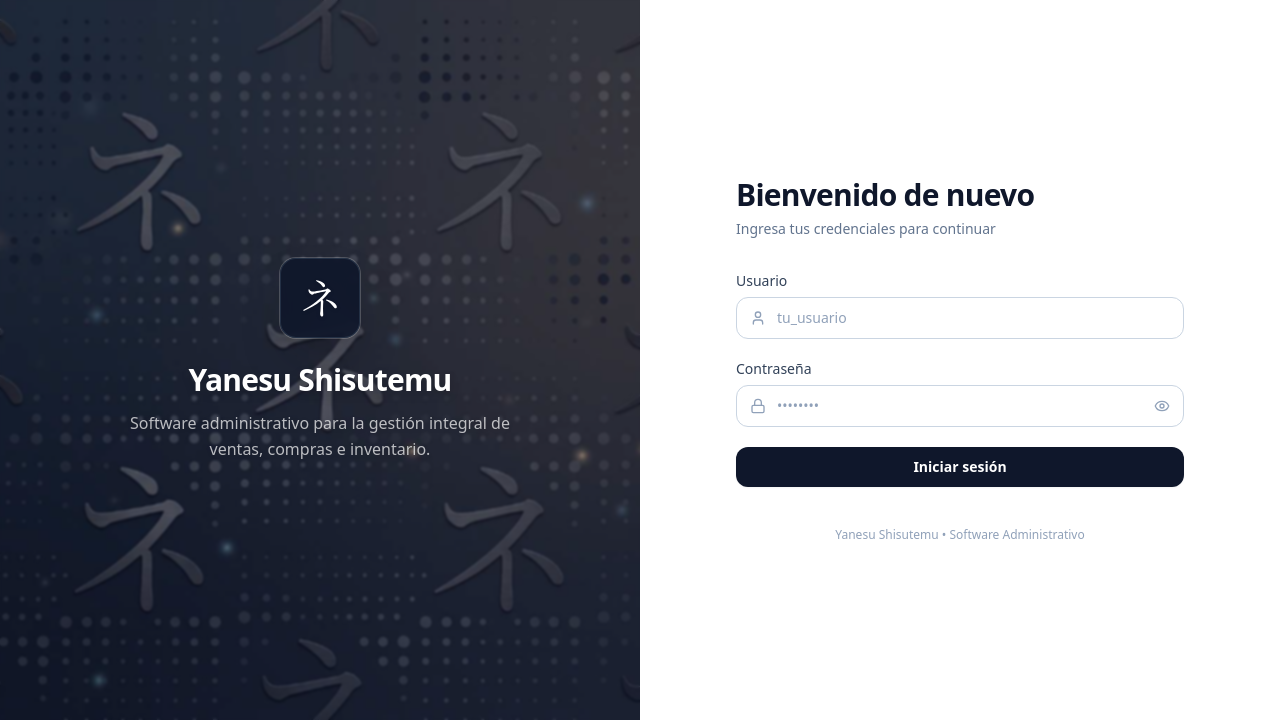
Test: LoginPage › shows error when login fails
The image size is (1280, 720).
Type "admin" into the field with placeholder "tu_usuario" at (960, 318), box [736, 297, 1184, 339]
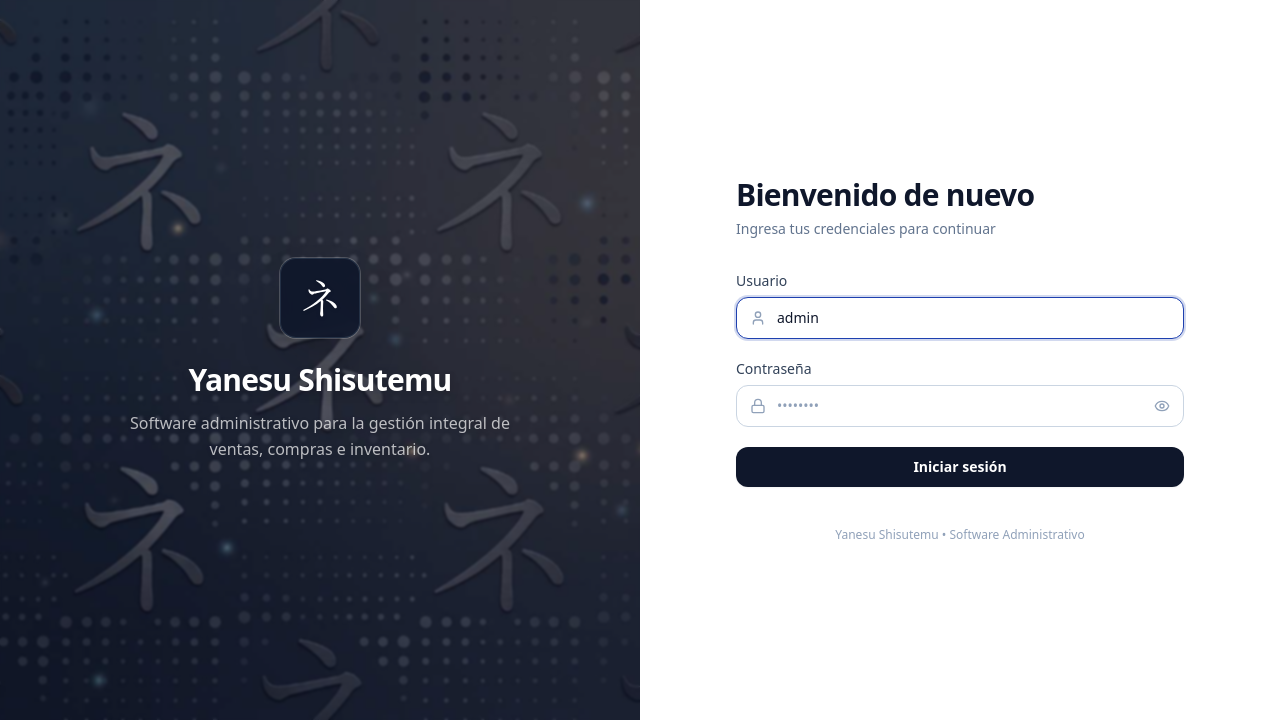
Type "wrong" into the password field with placeholder "••••••••" at (960, 406), box [736, 385, 1184, 427]
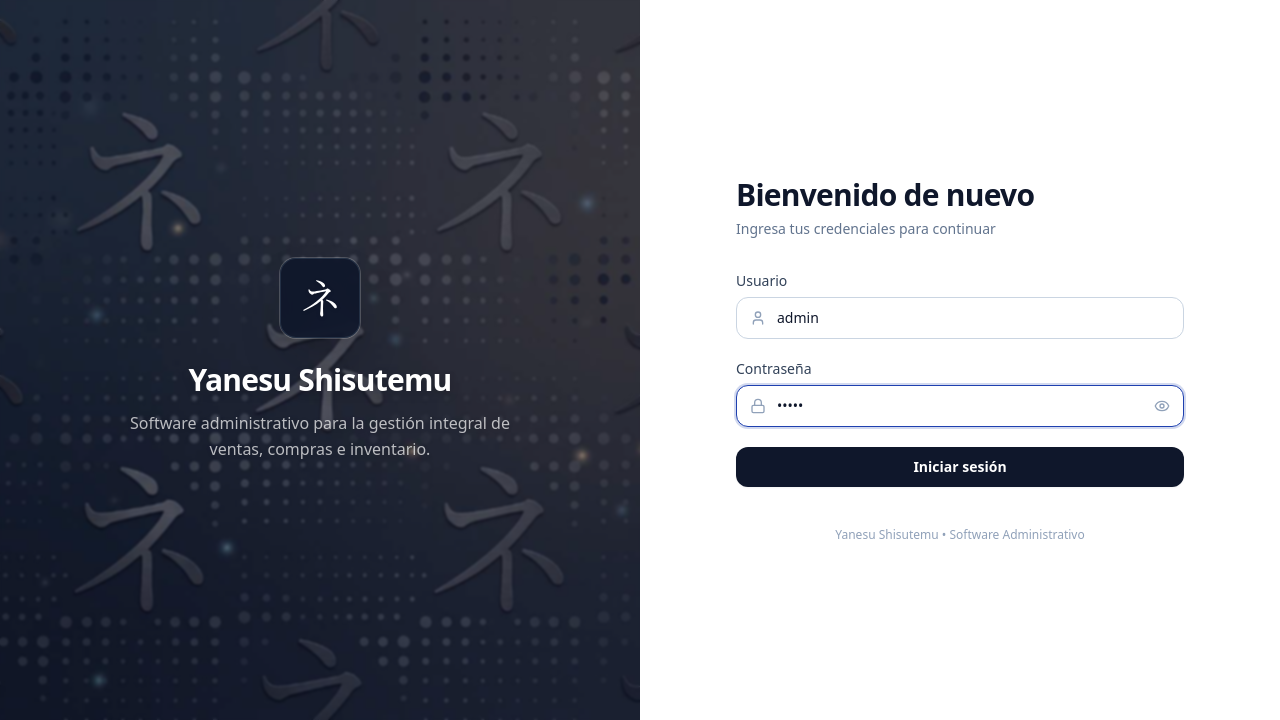
Click the button "Iniciar sesión" at (960, 467), box [736, 447, 1184, 487]
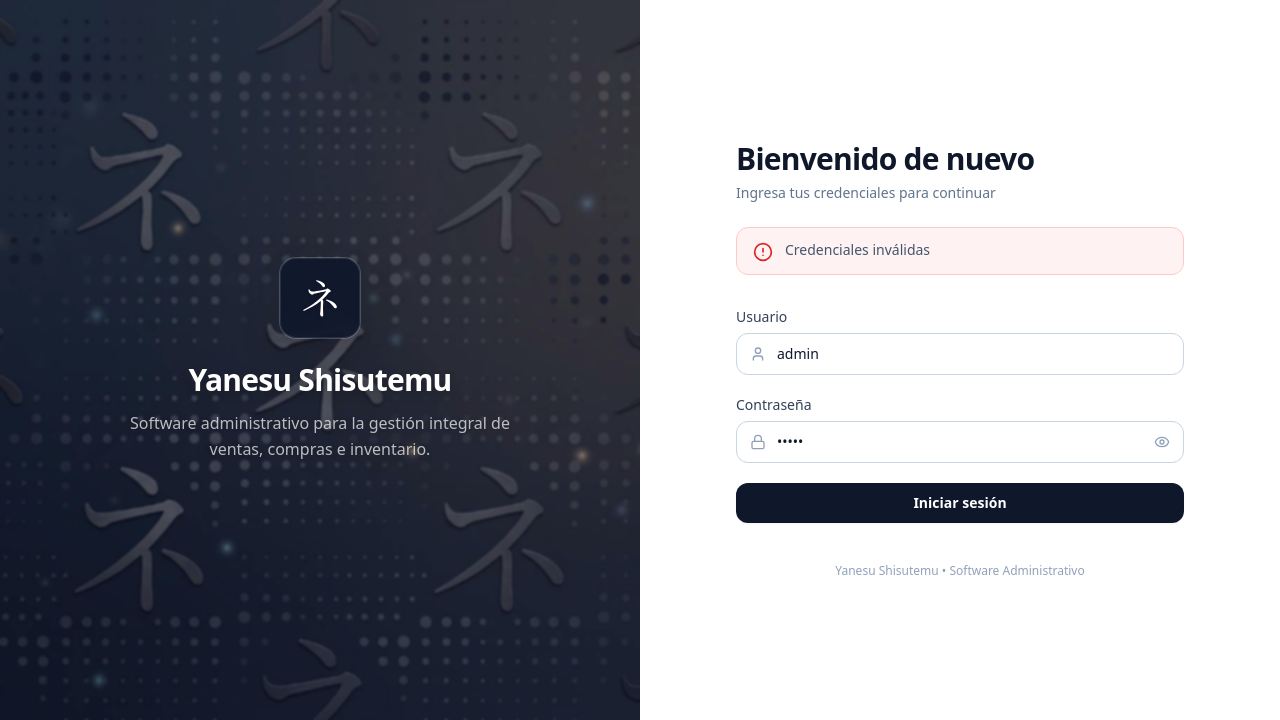
Check: the text "Credenciales inválidas" is shown, box [785, 240, 930, 259]
